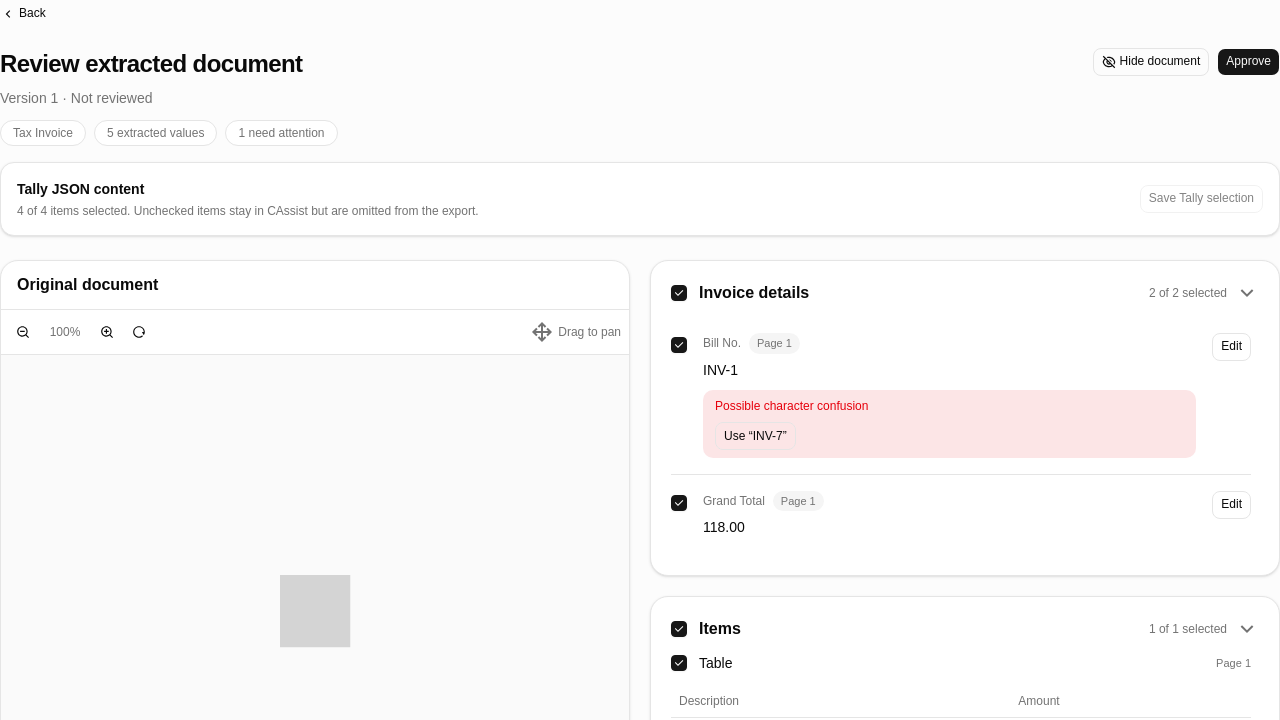
ReviewPage › toggles the inline original preview
Step 1. Click the button "Hide document" → (1151, 62), box [1093,48,1209,76]
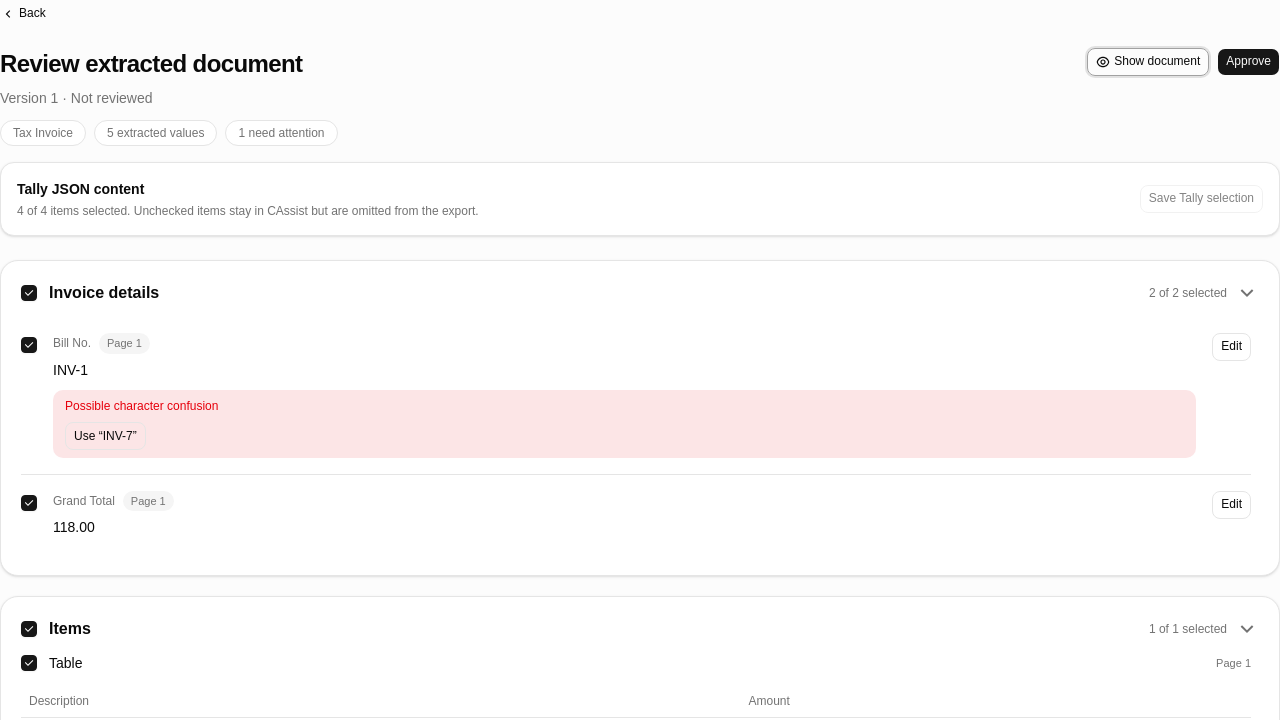
Expected: the button "Show document" is enabled, [1087,48,1209,76]
Expected: the heading with alt text "Original document" is gone
